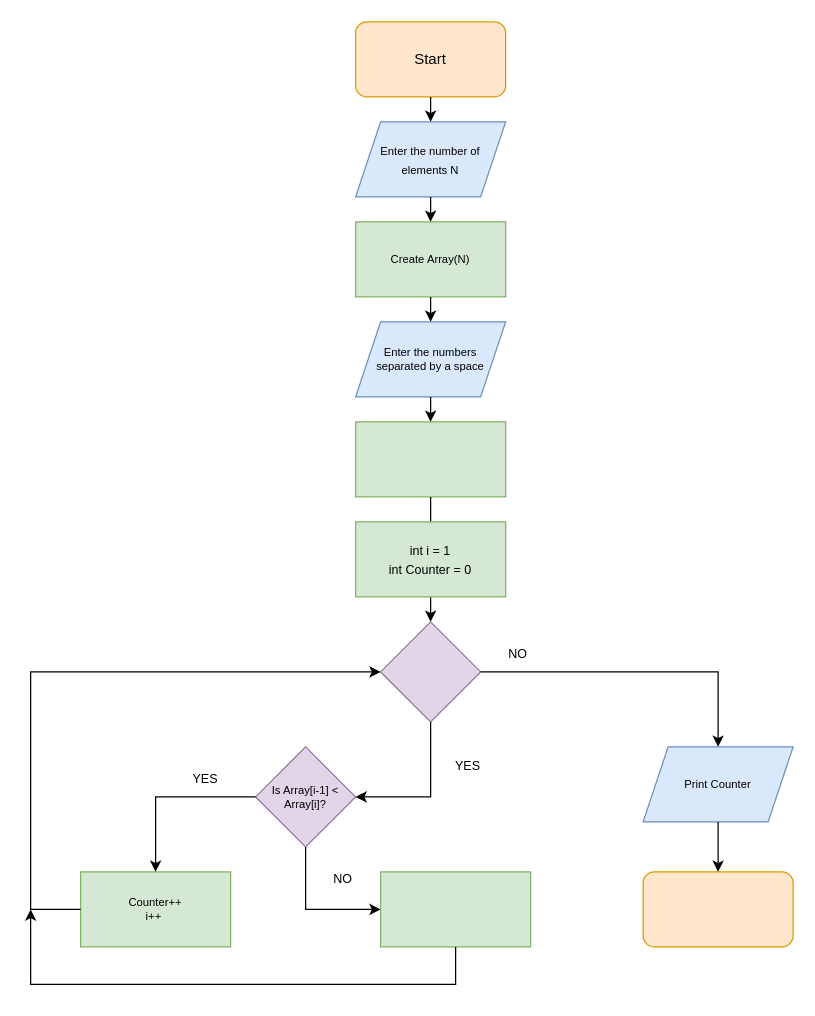
The diagram is 815 pixels wide and 1016 high, and some of its shapes have lost their labels. The centre of each missing label's shape, as x and y in pixels:
End: (x=717, y=909)
Fill the Array, splitting the numbers by " ": (x=430, y=459)
i++: (x=455, y=909)
Is i < Array.length?: (x=430, y=671)
